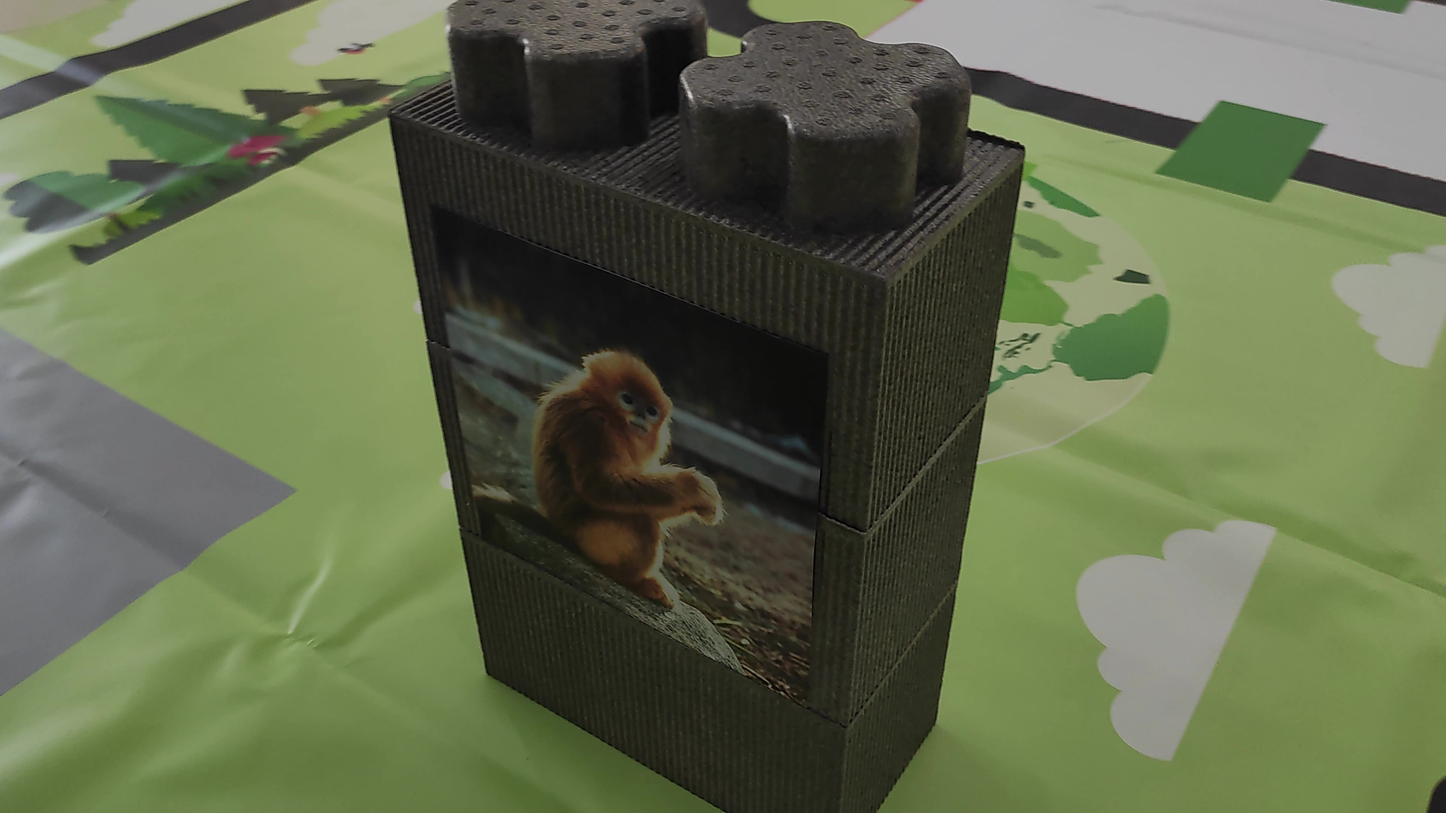monkey: (471, 287, 767, 613)
